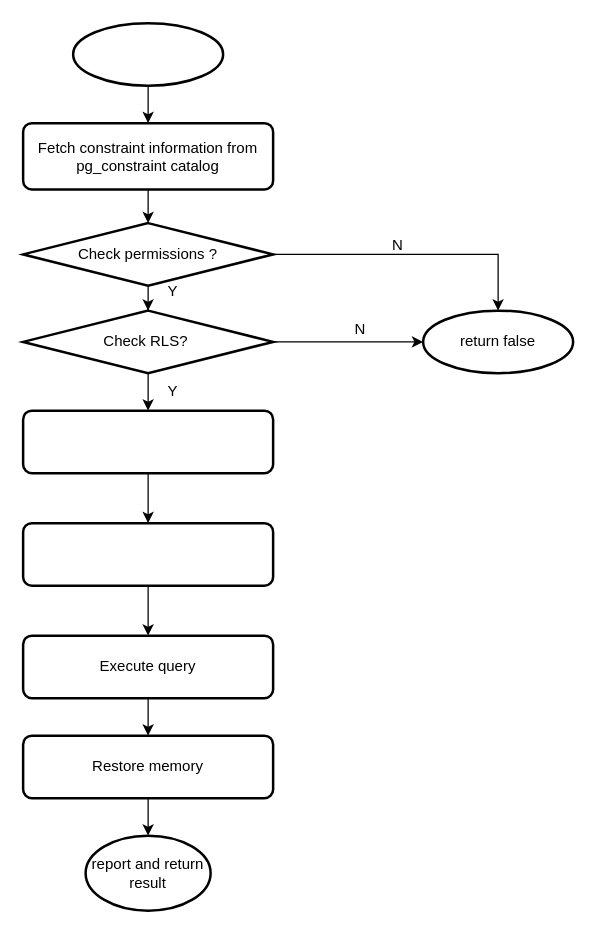
The diagram is 595 pixels wide and 933 high, and some of its shapes have lost their labels. The centre of each missing label's shape, as x and y in pixels:
"Adjust memory to execute query" goes at point 147,553.
"Build query string" goes at point 147,441.
"Initial Check" goes at point 147,53.
